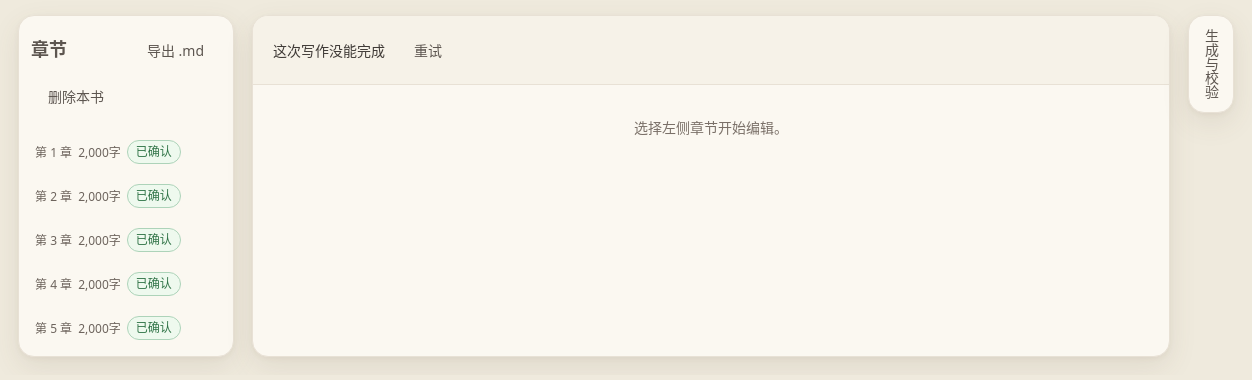
Test: shows a resume failure and keeps the failed task retry available
Step 1. Click the button "重试" → (428, 50), box [397,30,459,70]
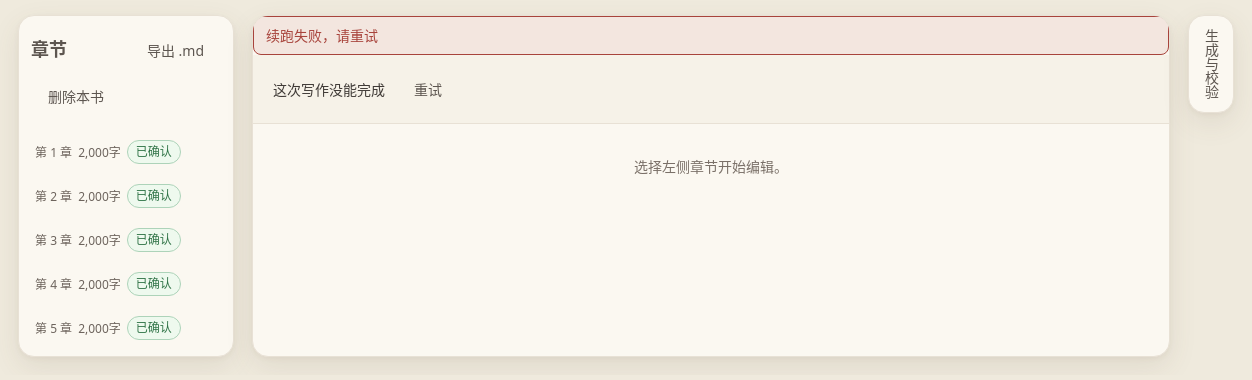
Check: the button "重试" is enabled, box [397,69,459,109]
Check: the message "续跑失败，请重试" is shown, box [253,16,1169,55]
